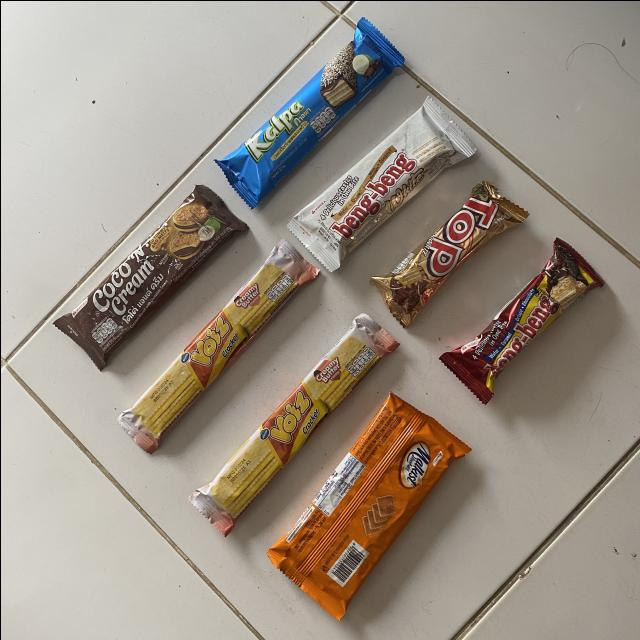plastik: (267, 392, 470, 619), (189, 313, 397, 534), (116, 239, 319, 453), (54, 184, 247, 369), (216, 17, 403, 206), (289, 96, 475, 269), (438, 238, 603, 403), (369, 181, 526, 326)
